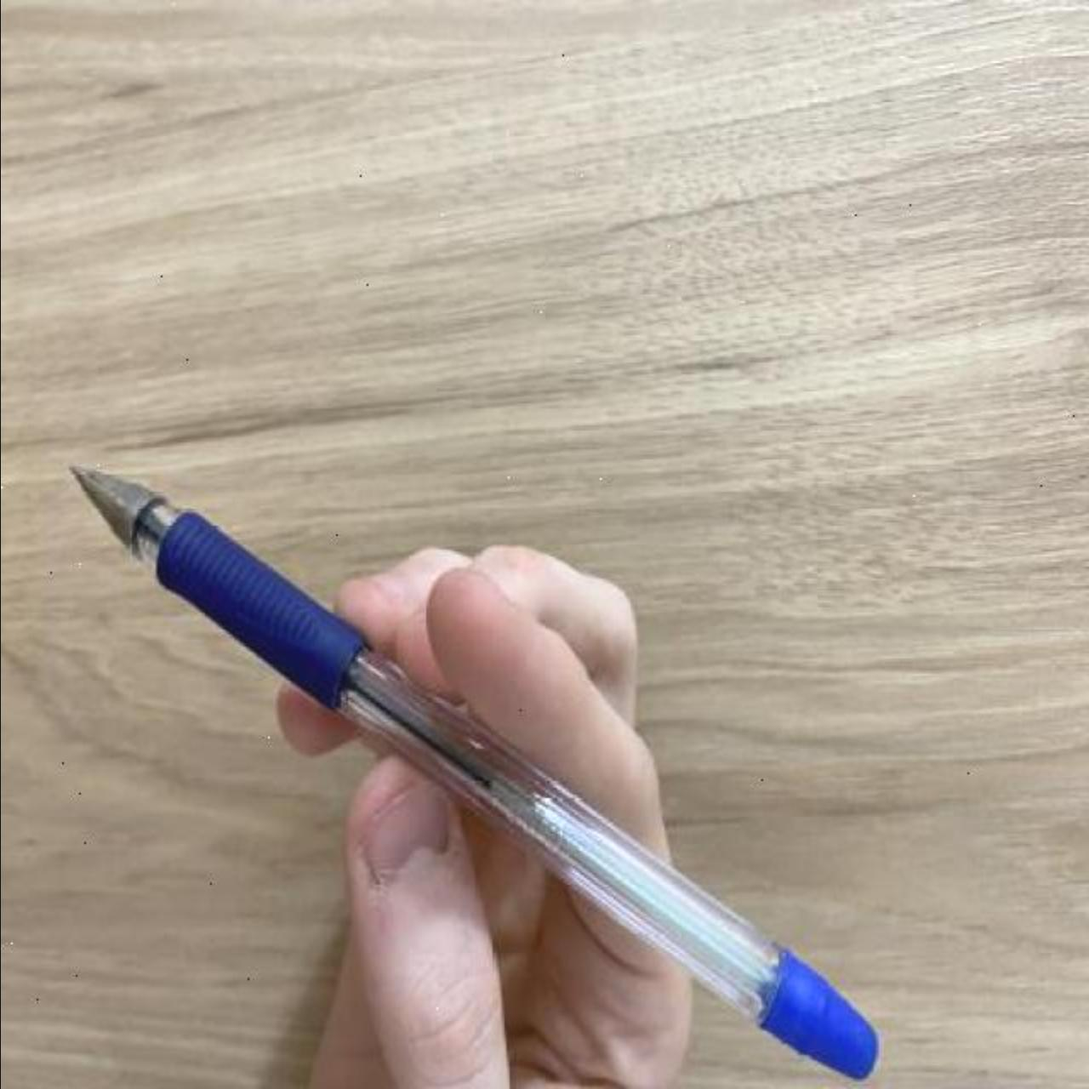pen: (66, 454, 881, 1082)
